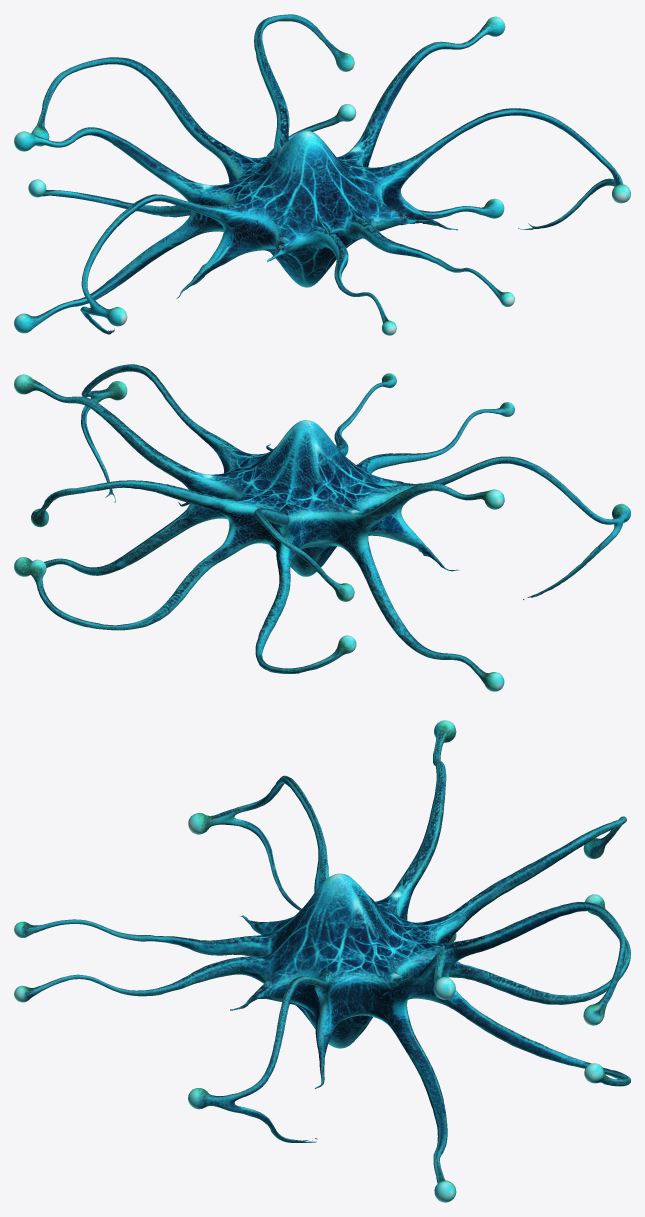
Rendered from node-human.glb.
The picture shows the model from 3 angles, top to bottom: view 1: azimuth 30°, elevation 25°; view 2: azimuth 150°, elevation 25°; view 3: azimuth 270°, elevation 25°; orthographic projection. The views are drawn at different scales.
Visible parts, largest first — view 1: Mesh_0; view 2: Mesh_0; view 3: Mesh_0.
Part boxes in pixels (<box>): Mesh_0: <box>14,14,630,335</box>; Mesh_0: <box>14,364,630,691</box>; Mesh_0: <box>14,720,630,1202</box>.
Bounding box in the file's own units: 1.91 × 0.6876 × 1.72.
Materials: 1 (1 with a texture image).
